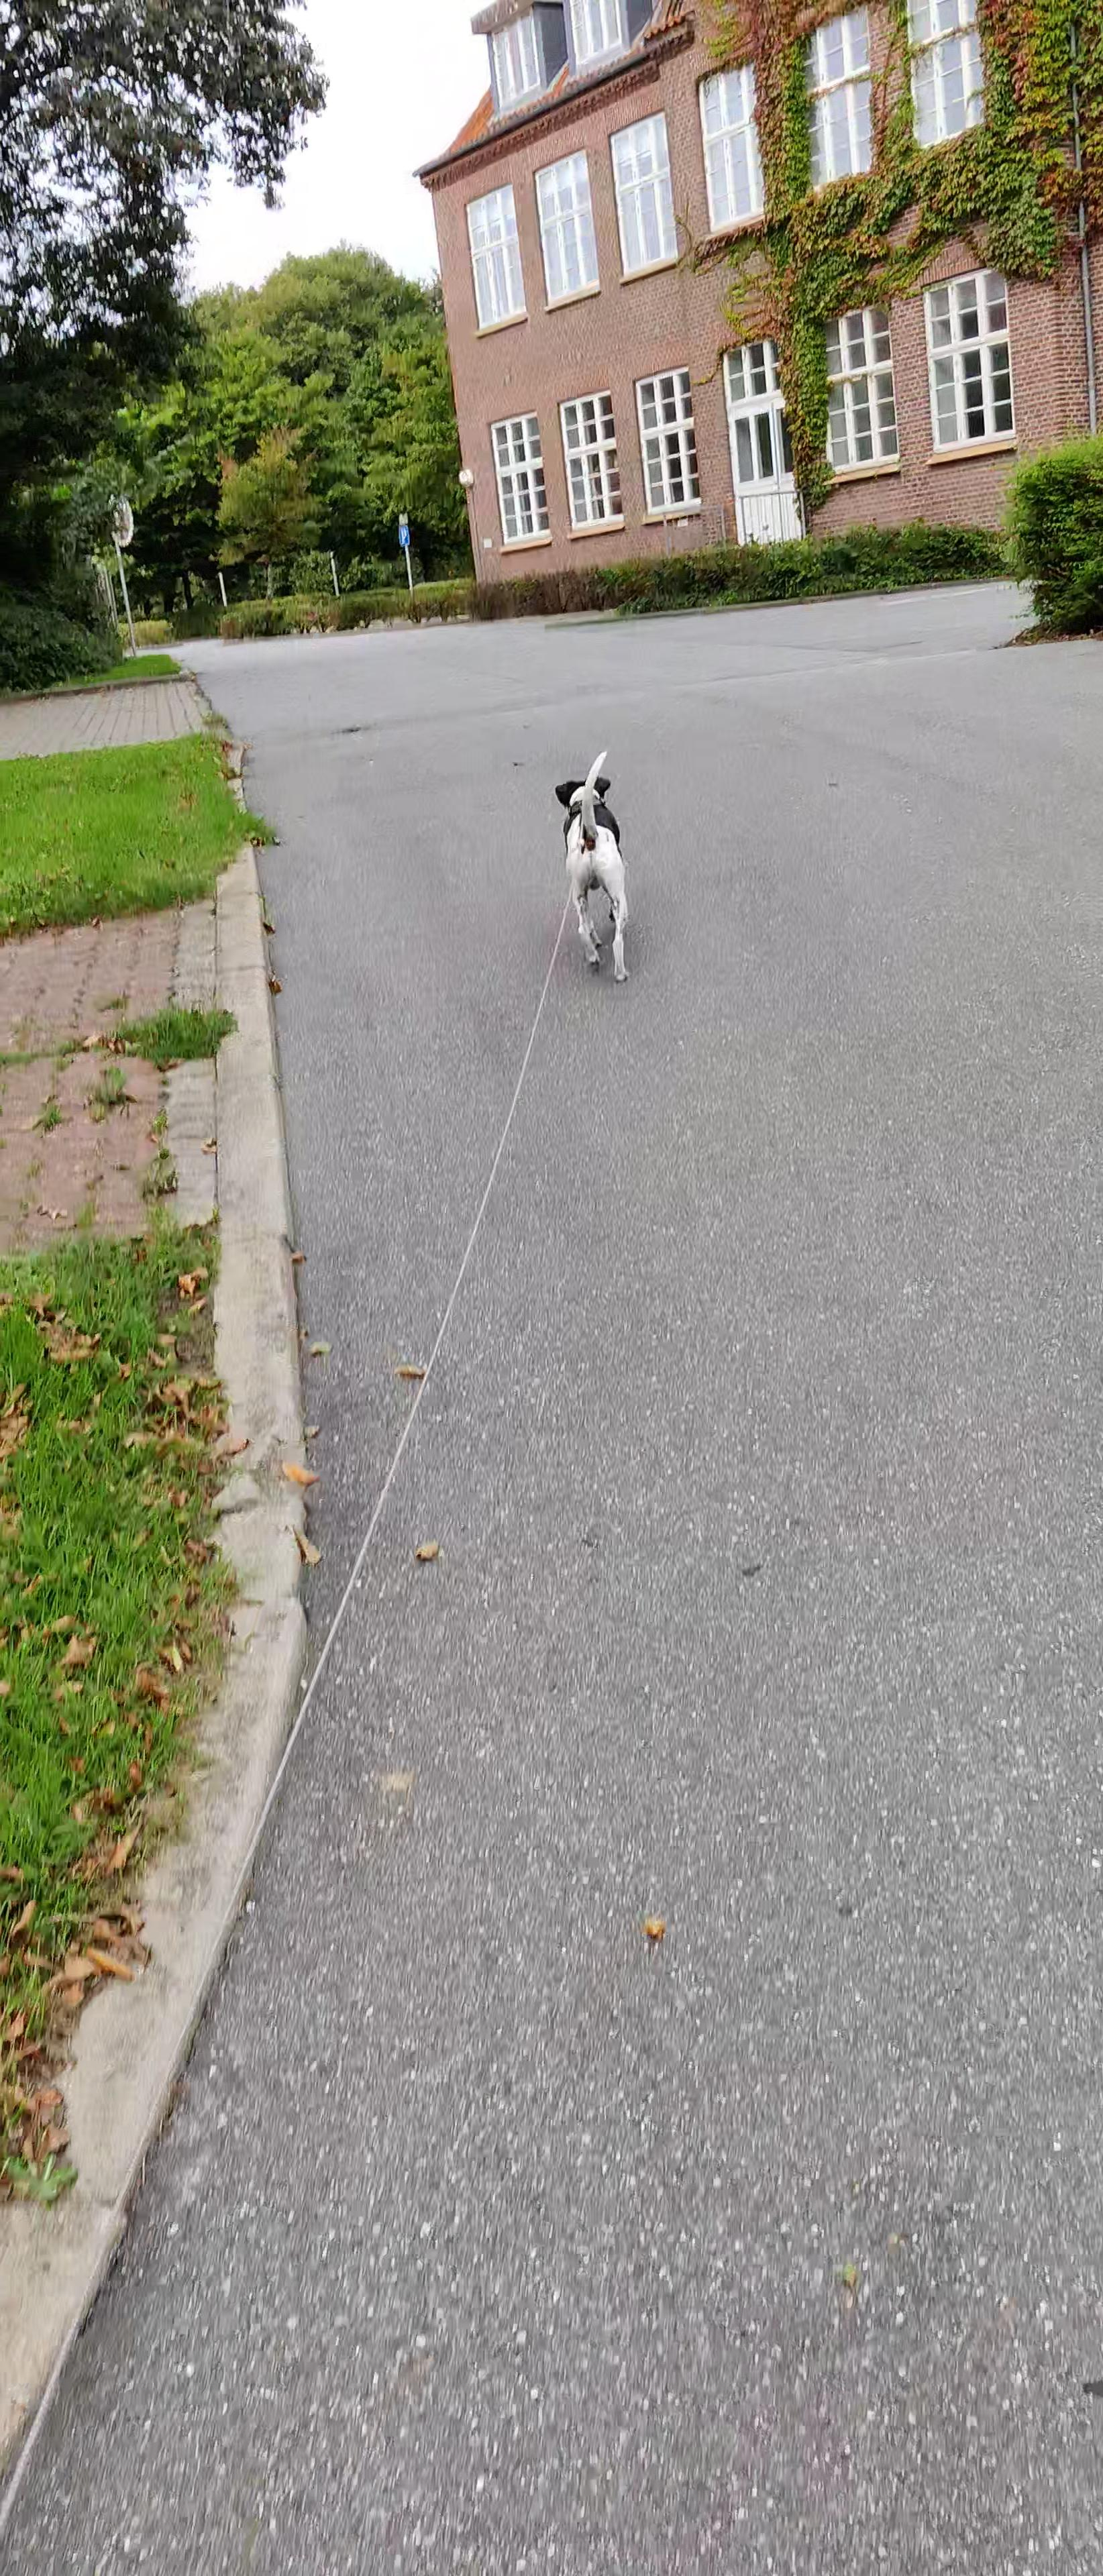Dog: (552, 747, 635, 984)
